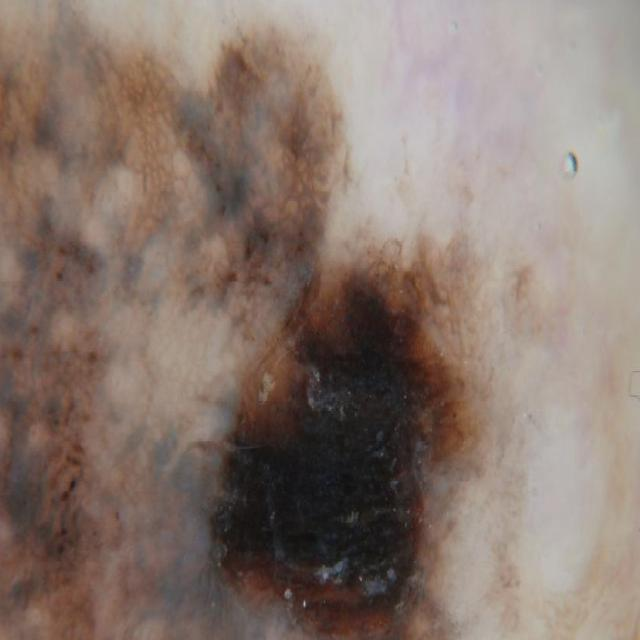Melanoma: (0, 30, 520, 640)
